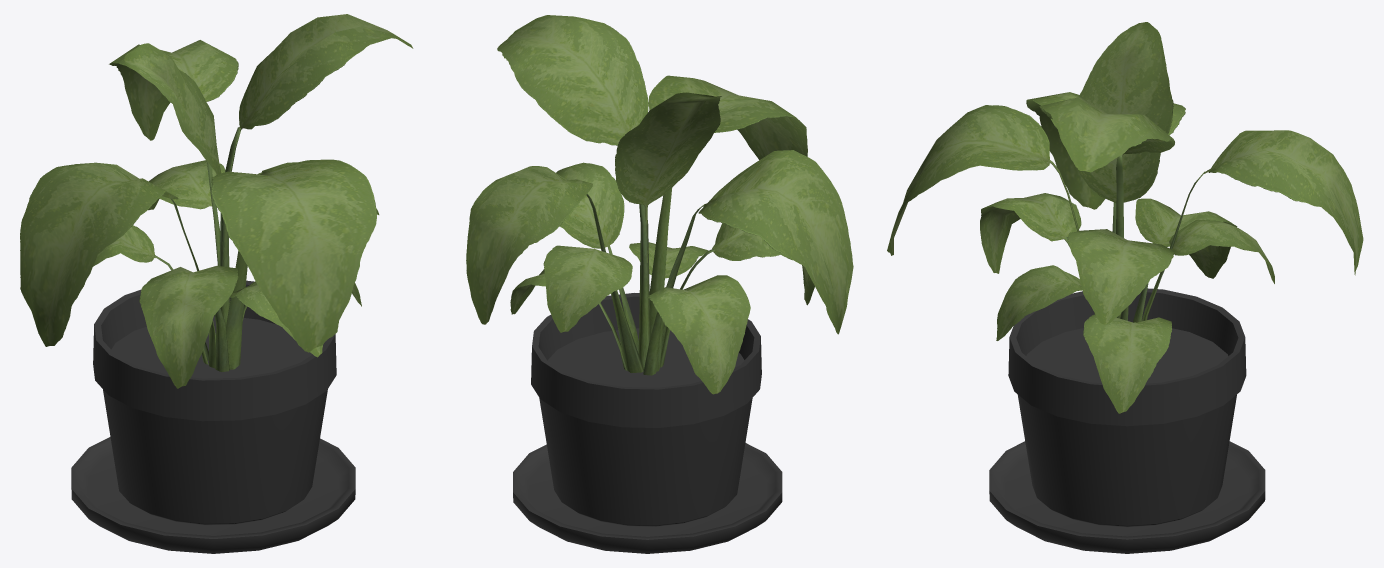
File: planter_01.FBX
3 views of the same model, side by side, from view 1: azimuth 30°, elevation 25°; view 2: azimuth 150°, elevation 25°; view 3: azimuth 270°, elevation 25° (orthographic). The views are drawn at different scales.
Visible parts, largest first — view 1: planter_01; view 2: planter_01; view 3: planter_01.
Boxes of the visible parts, left/top/right/bottom form: planter_01: left=20, top=14, right=413, bottom=553; planter_01: left=466, top=15, right=853, bottom=553; planter_01: left=887, top=22, right=1363, bottom=553.
Size of what is drawn, in the model's own units: 48.29 by 55.16 by 56.07.
